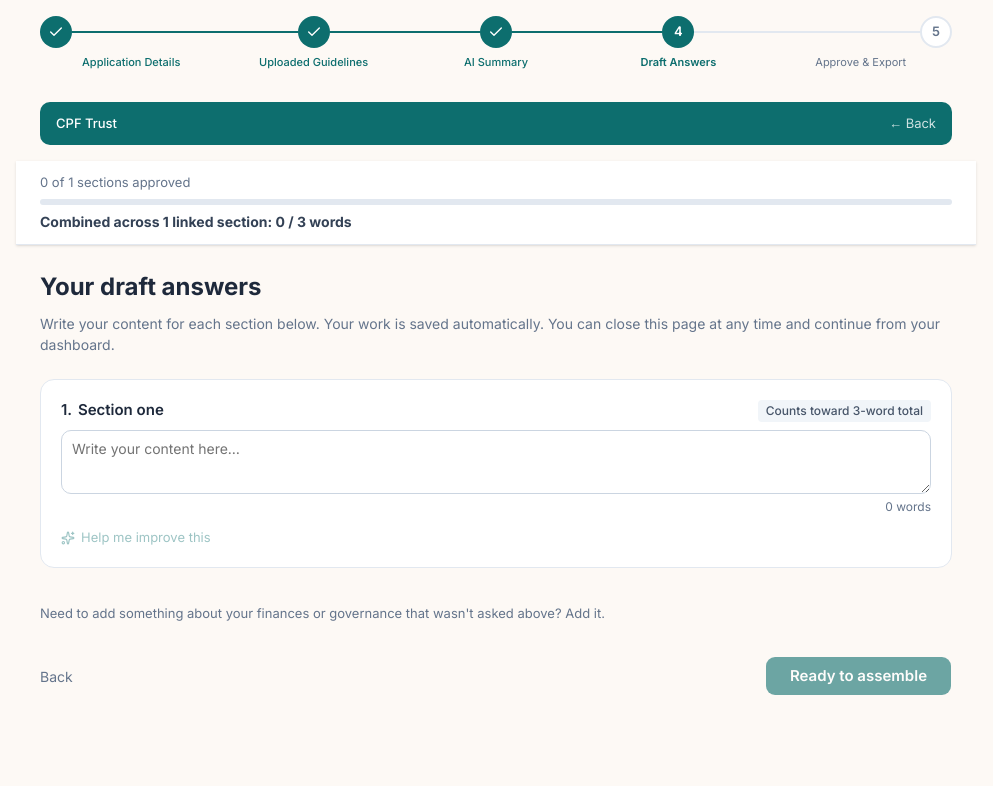
Test case: ApplicationStep4Draft — combined word-limit counter (PDR-AI-012) › flags the combined count as over limit once it exceeds the aggregate
Type "one two three four five" into the text box named "Content for section 1: Section one" at (496, 462), box [61,430,931,494]
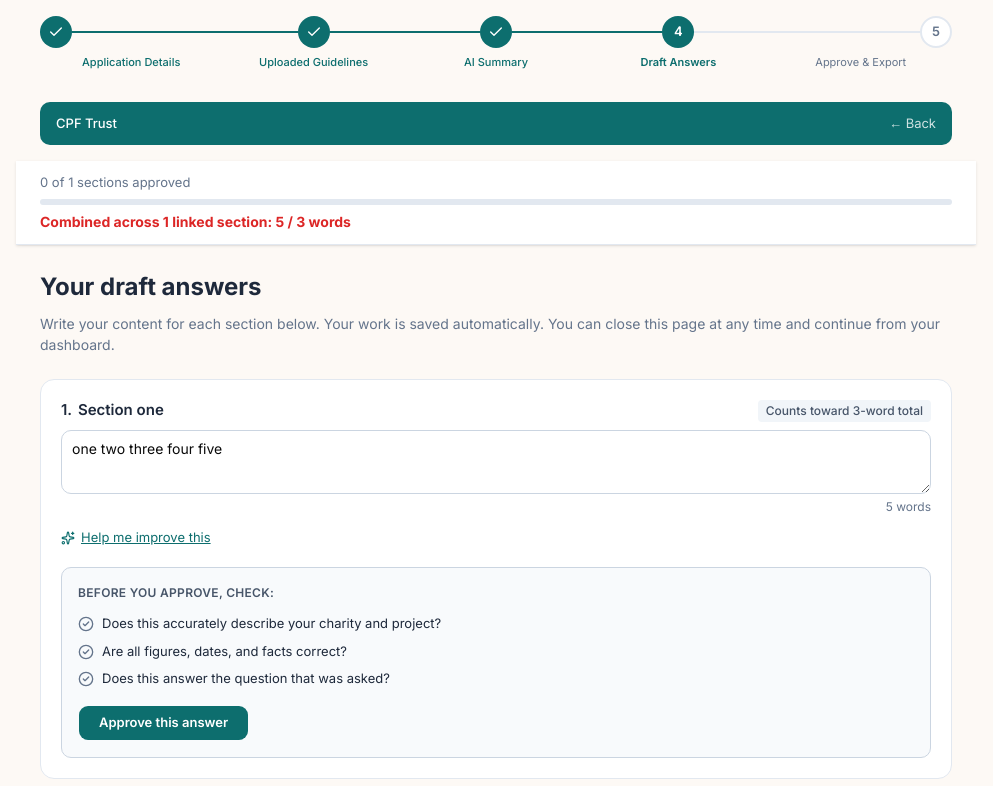
Result: the text "Combined across 1 linked section: 5 / 3 words" is shown at [40,213,351,230]
